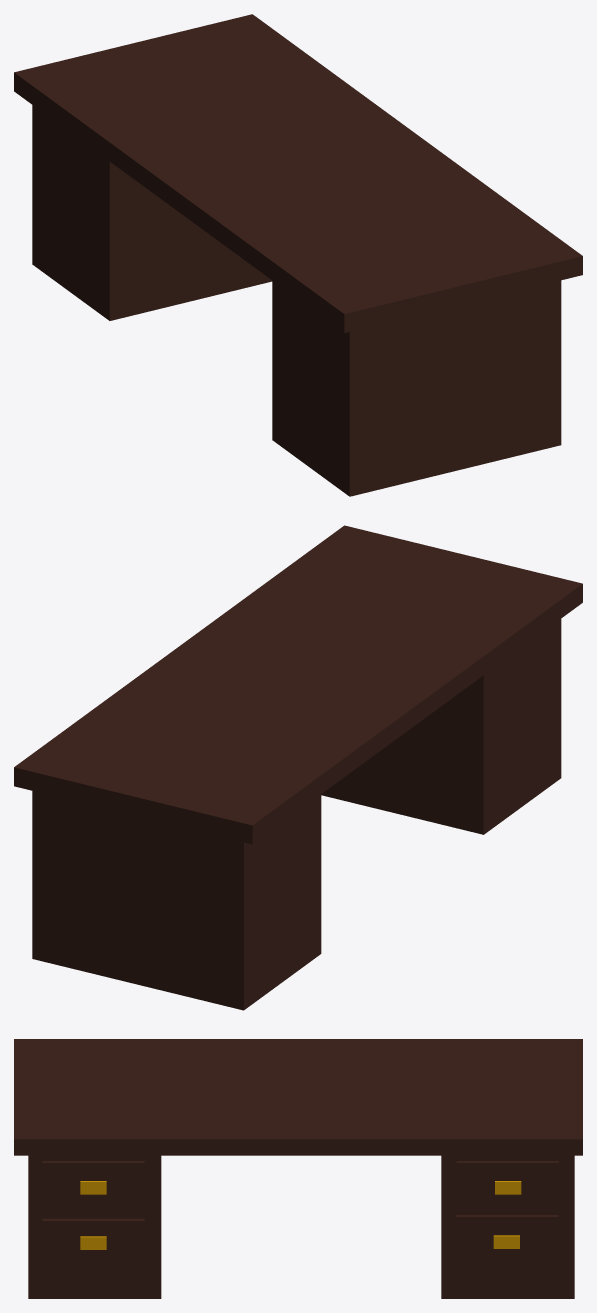
File: Escritorio.obj
3 renders of one model, top to bottom at view 1: azimuth 30°, elevation 25°; view 2: azimuth 150°, elevation 25°; view 3: azimuth 270°, elevation 25°, orthographic. The views are drawn at different scales.
Visible parts, largest first — view 1: group5_pasted__pCube3; view 2: group5_pasted__pCube3; view 3: group5_pasted__pCube3.
Boxes of the visible parts, left/top/right/bottom form: group5_pasted__pCube3: left=14, top=14, right=582, bottom=496; group5_pasted__pCube3: left=14, top=525, right=582, bottom=1010; group5_pasted__pCube3: left=14, top=1039, right=582, bottom=1298.
Bounding box in the file's own units: 4.37 × 3.36 × 10.5.
2 materials, 2 textured.
